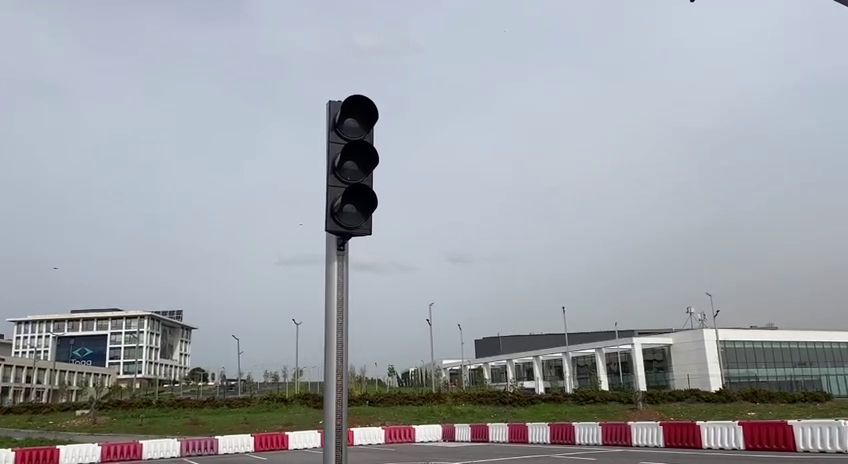trafficLight: (320, 91, 384, 244)
